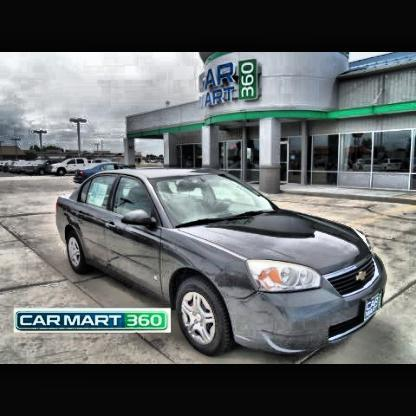Chevrolet Malibu Sedan 2007: (57, 167, 393, 361)
